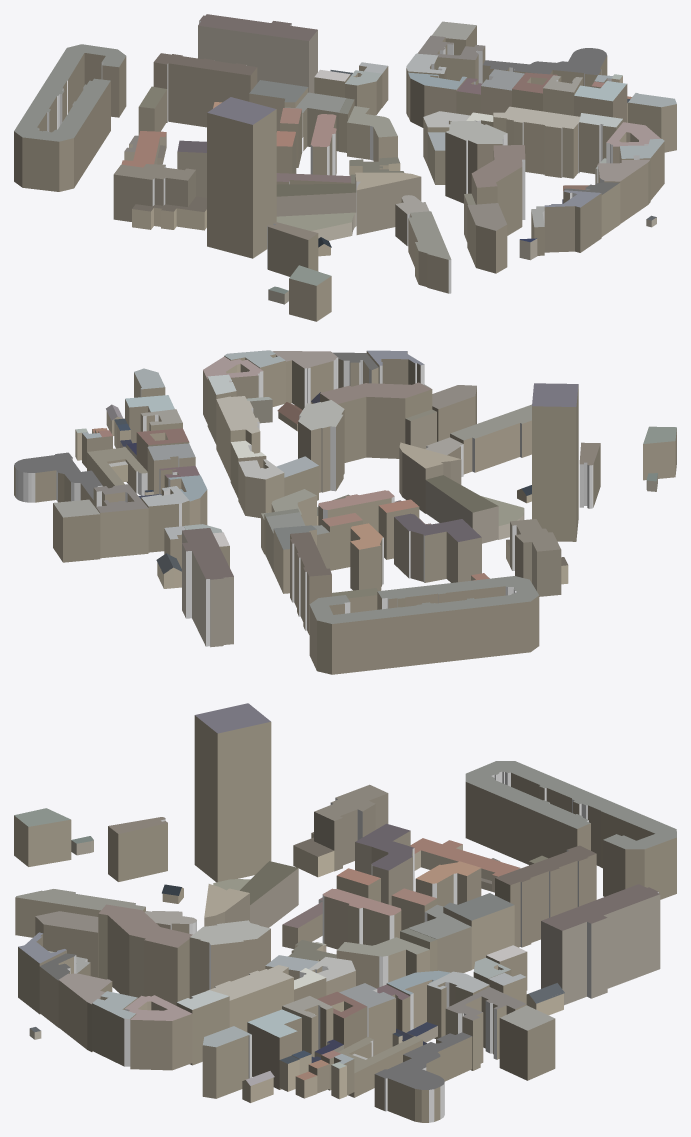
3 renders of one model, top to bottom at view 1: azimuth 30°, elevation 25°; view 2: azimuth 150°, elevation 25°; view 3: azimuth 270°, elevation 25°, orthographic. The views are drawn at different scales.
Parts seen in each view (by area): view 1: tuile; view 2: tuile; view 3: tuile.
Boxes of the visible parts, bbox=[...] form: tuile: bbox=[14, 14, 676, 321]; tuile: bbox=[14, 350, 676, 674]; tuile: bbox=[14, 703, 676, 1122].
Bounding box in the file's own units: 295 × 75.77 × 275.
